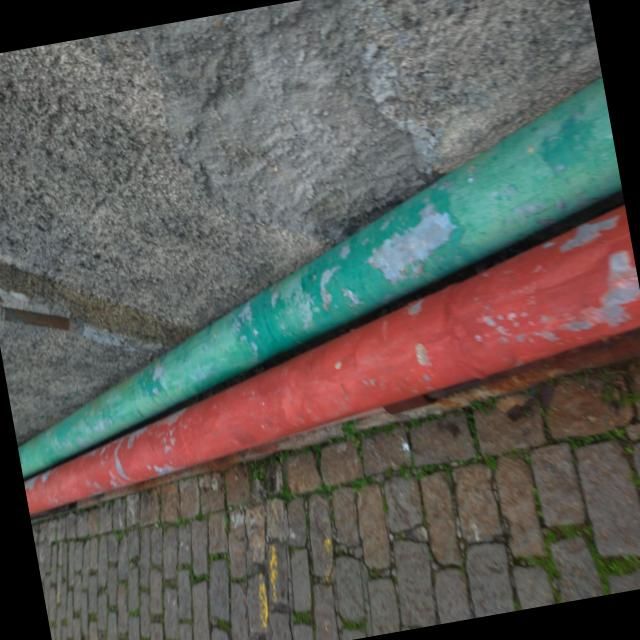gas: (17, 70, 622, 474), (23, 203, 640, 515)
